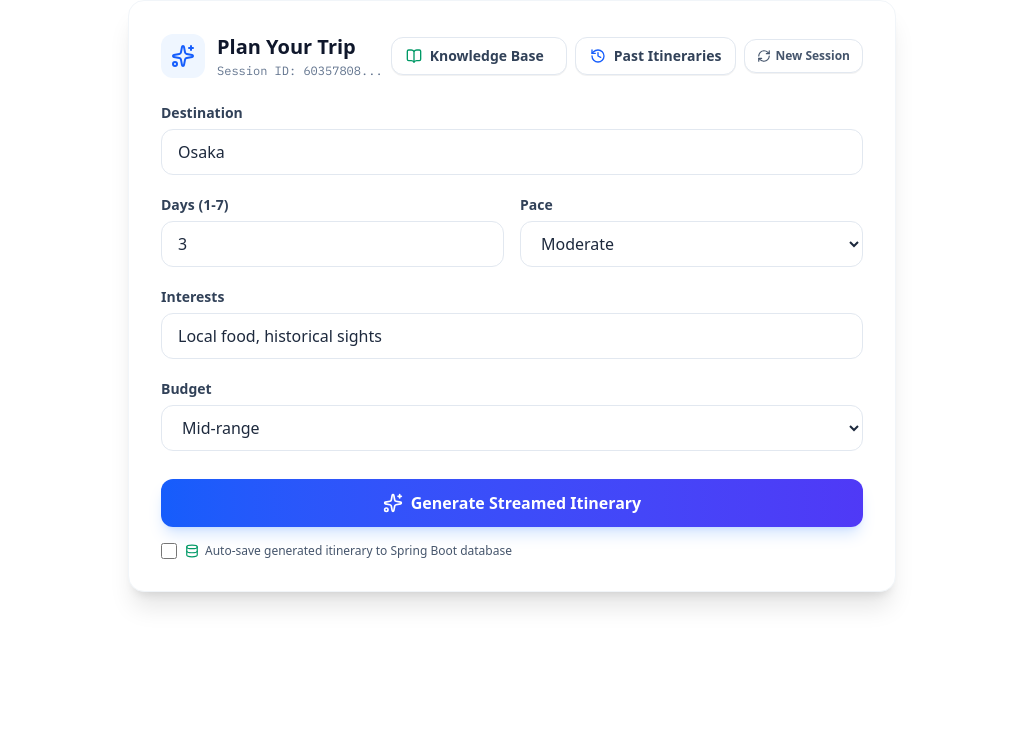
ItineraryForm Component › Session Reset & Stop Generation Handlers › stops stream generation when user clicks Stop Generation
Click the button "Generate Streamed Itinerary".
click(512, 503)  # box [161,479,863,527]
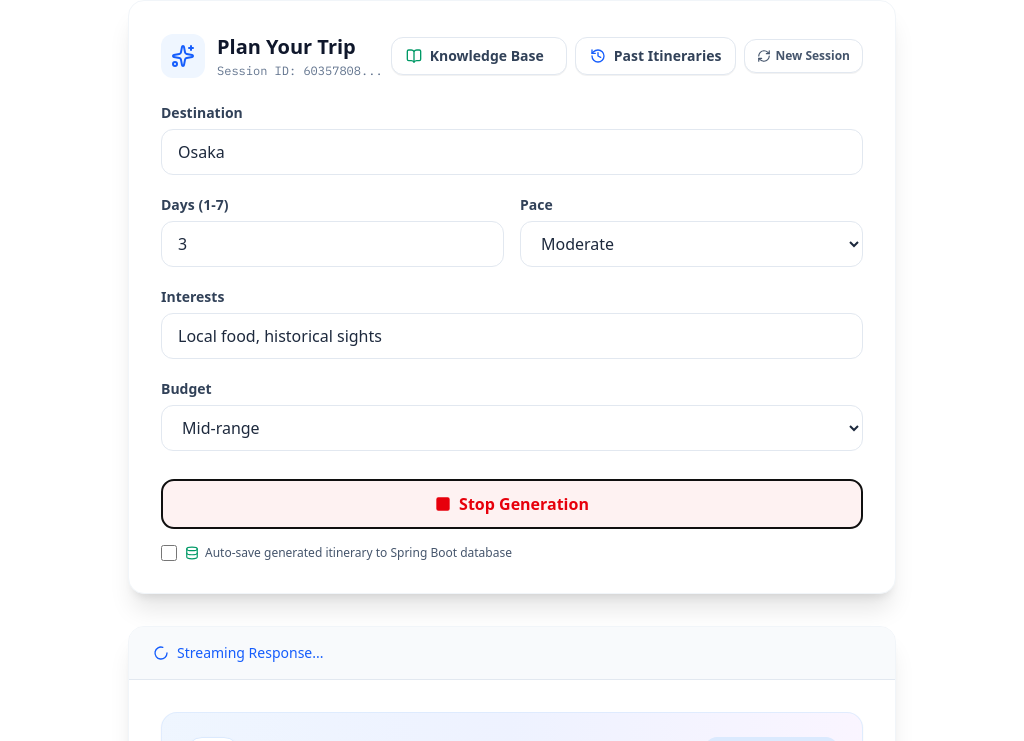
Now the button "Stop Generation" is shown
Click the button "Stop Generation".
click(512, 504)  # box [161,479,863,529]
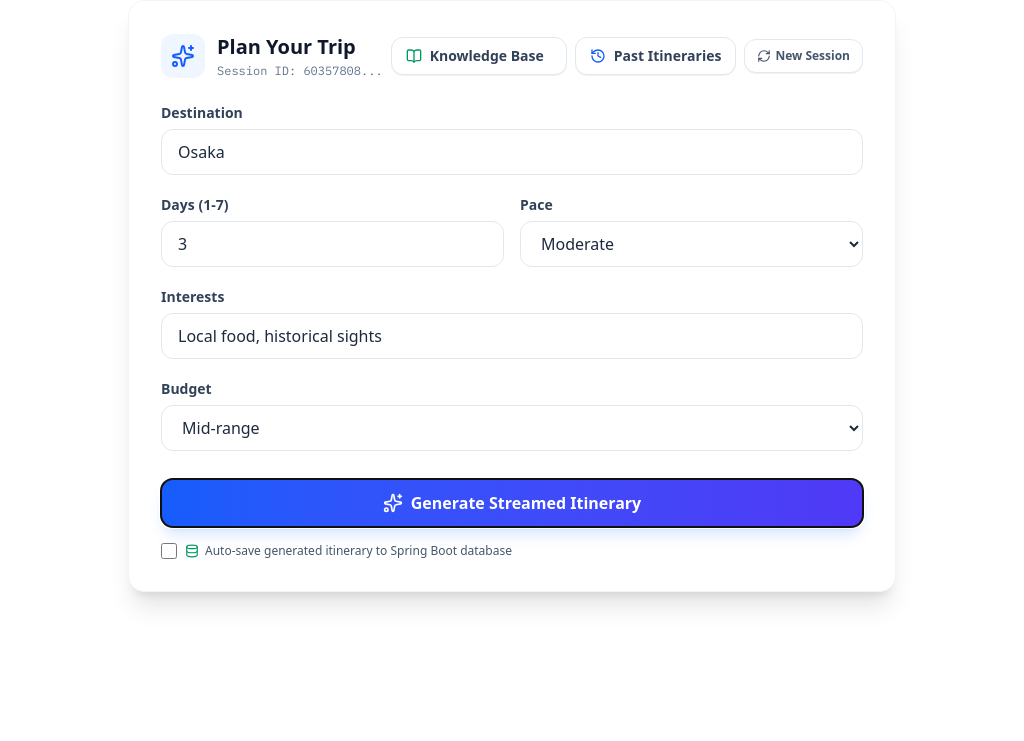
Now the button "Generate Streamed Itinerary" is shown, box [161,479,863,527]
